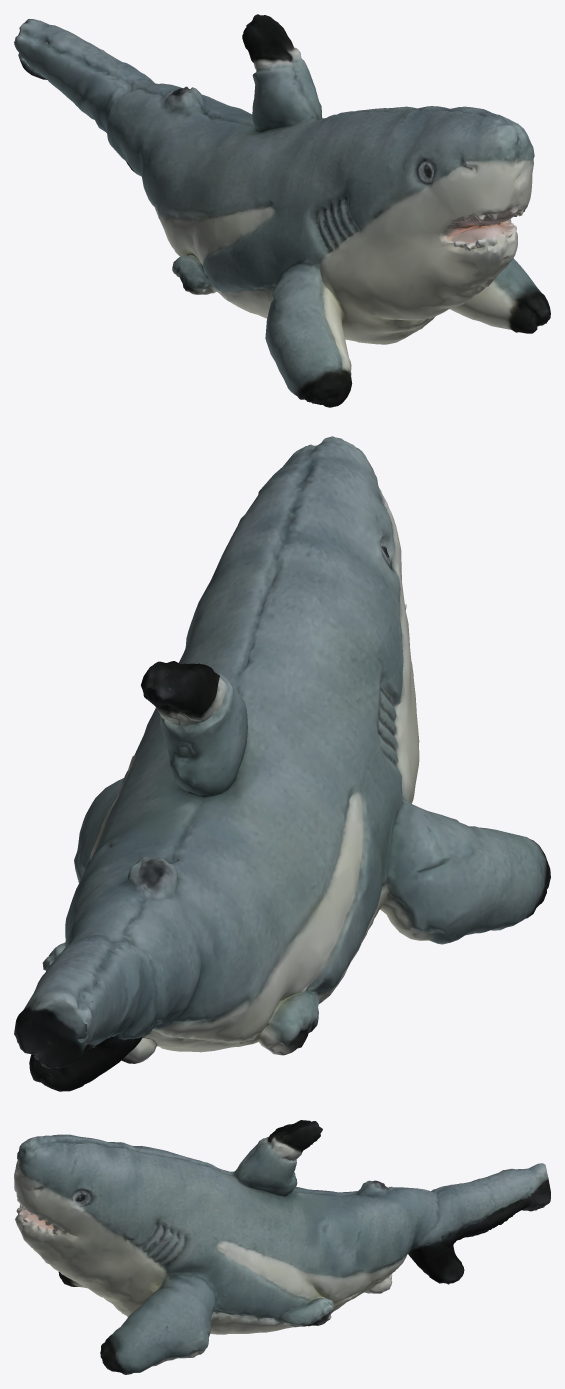
The model's file is Shark.glb.
3 views of the same model, one above another, from view 1: azimuth 30°, elevation 25°; view 2: azimuth 150°, elevation 25°; view 3: azimuth 270°, elevation 25° (orthographic). The views are drawn at different scales.
Visible parts, largest first — view 1: Shark; view 2: Shark; view 3: Shark.
Boxes of the visible parts, x1,y1,x2,y2 form: Shark: (14,14,550,407); Shark: (14,436,550,1091); Shark: (14,1120,550,1374).
Size of the model in its own units: 0.1758 by 0.1612 by 0.3871.
Materials: 1 (1 with a texture image).
